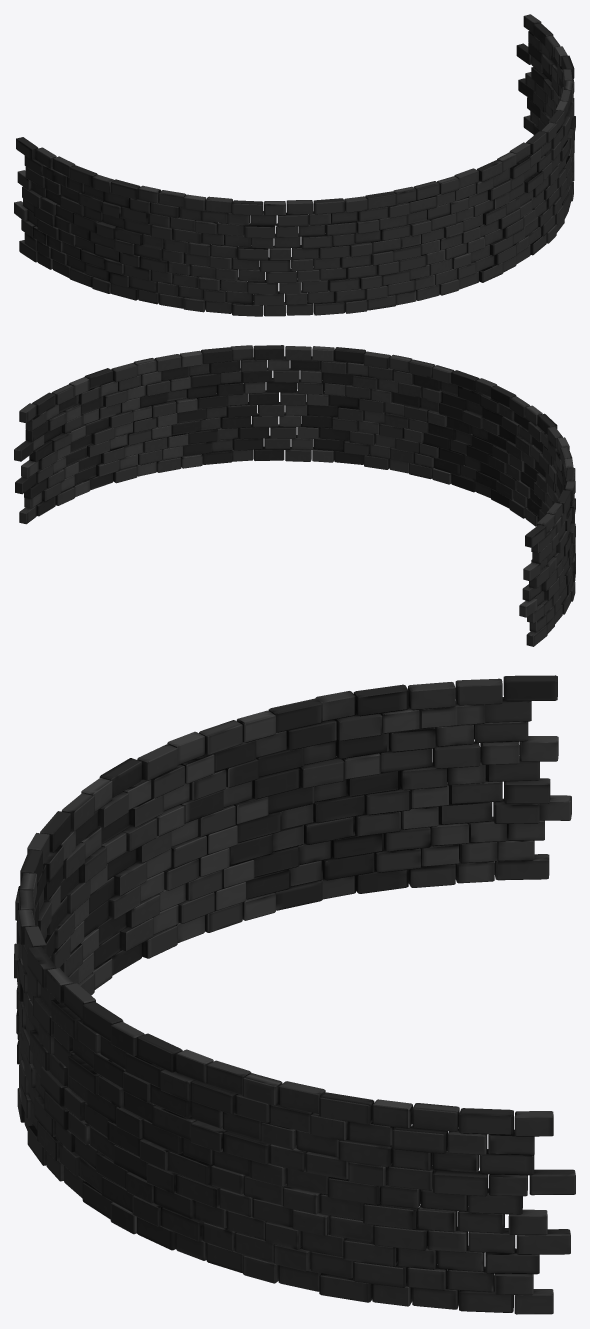
The model's file is wall curve.glb.
3 views of the same model, one above another, from view 1: azimuth 30°, elevation 25°; view 2: azimuth 150°, elevation 25°; view 3: azimuth 270°, elevation 25° (orthographic). The views are drawn at different scales.
Parts seen in each view (by area): view 1: wall curve; view 2: wall curve; view 3: wall curve.
Boxes of the visible parts, x1,y1,x2,y2 form: wall curve: (14, 14, 575, 316); wall curve: (14, 345, 575, 646); wall curve: (14, 675, 575, 1314).
Size of the model in its own units: 14.4 by 3 by 7.73.
Materials: 3 (3 with a texture image).
